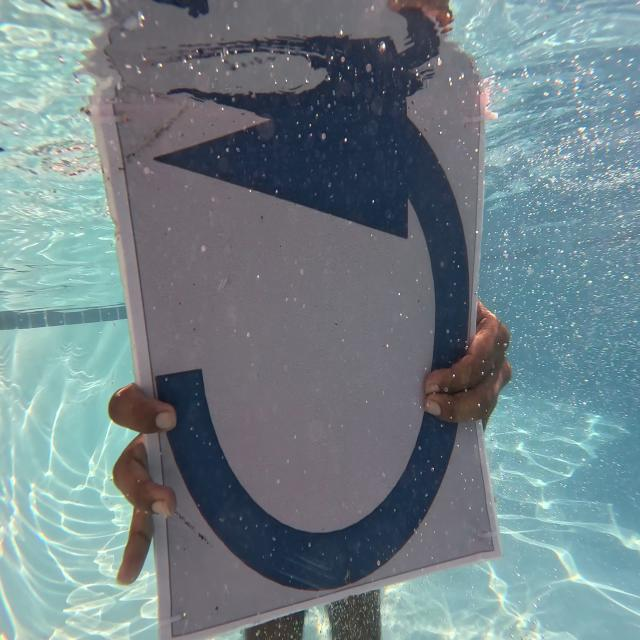blue_side: (148, 83, 476, 588)
